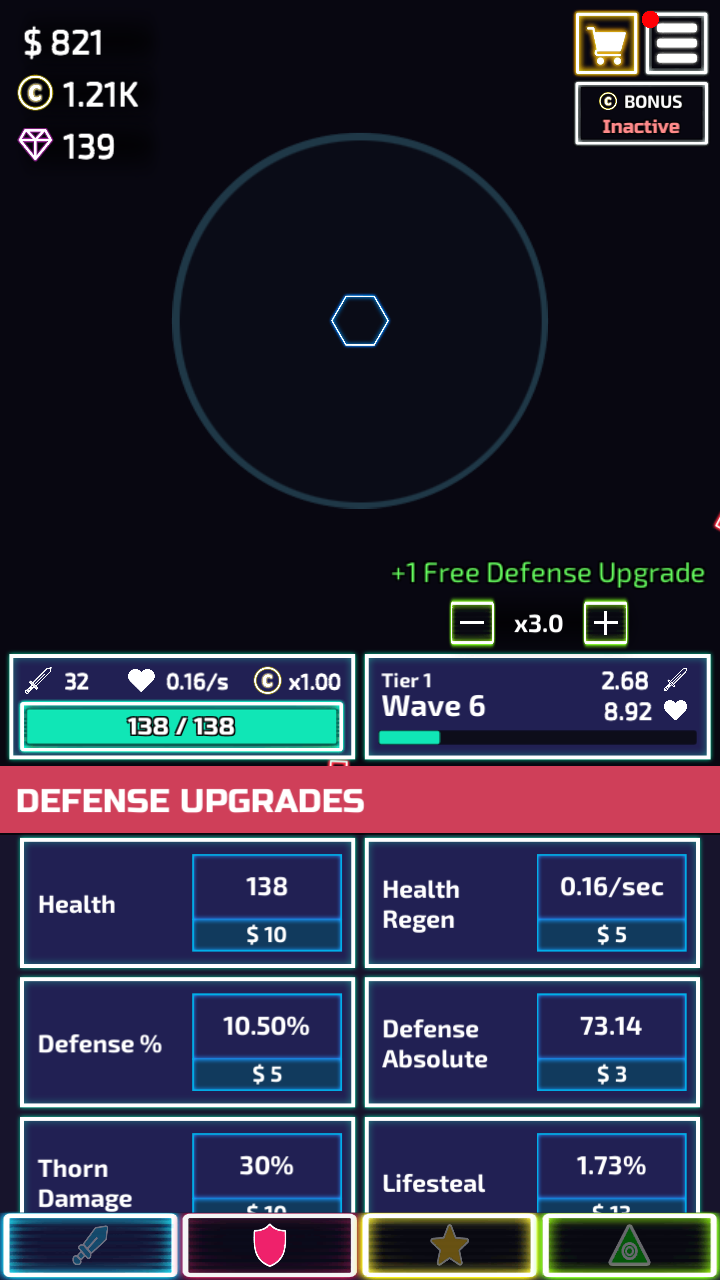B_Menu_Closed: (571, 11, 710, 73)
B_Menu_Open: (636, 5, 705, 75)
B_Slot: (20, 838, 354, 967), (361, 977, 703, 1102), (365, 842, 700, 965), (21, 981, 356, 1104), (18, 1116, 356, 1209), (365, 1118, 696, 1211)
B_Slot_Button: (183, 997, 347, 1095), (185, 855, 344, 956), (531, 997, 691, 1093), (531, 855, 689, 952), (534, 1132, 691, 1211), (189, 1134, 345, 1211)
B_Slot_Label: (363, 1008, 497, 1079), (367, 865, 472, 938), (27, 1017, 169, 1068), (25, 1150, 135, 1212), (369, 1155, 498, 1202), (27, 883, 139, 928)
B_Slot_Price: (224, 913, 294, 951), (228, 1056, 292, 1090), (580, 1052, 634, 1091), (584, 920, 636, 954)
B_Slot_Value: (545, 865, 671, 910), (207, 999, 320, 1045), (215, 856, 315, 906), (557, 1008, 660, 1054), (557, 1143, 660, 1180), (214, 1150, 303, 1180)
B_Tab_Defense: (0, 766, 719, 833)
